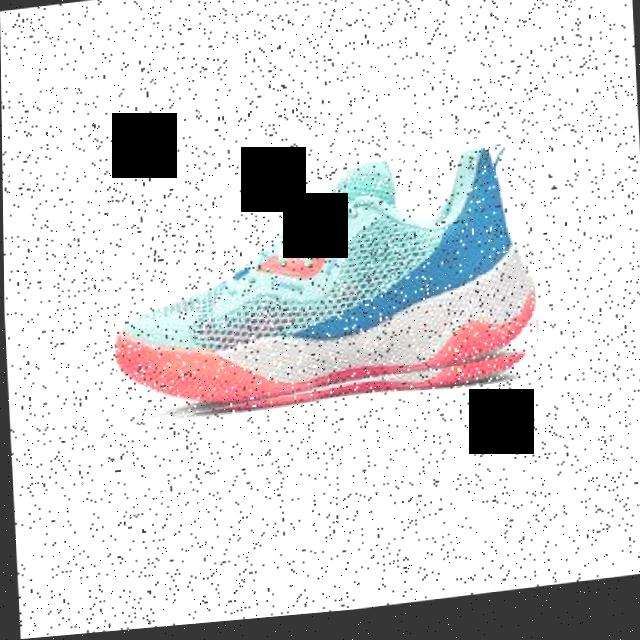shoe: (107, 151, 540, 430)
